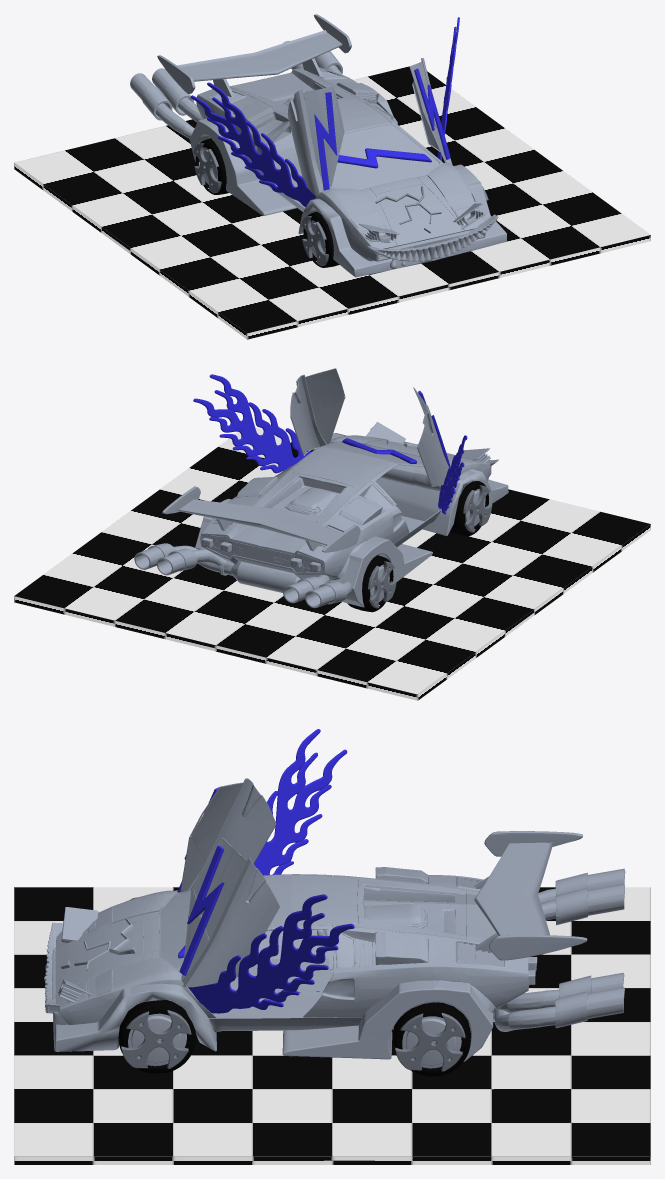
The model's file is car-lite.glb.
3 renders of one model, top to bottom at view 1: azimuth 30°, elevation 25°; view 2: azimuth 150°, elevation 25°; view 3: azimuth 270°, elevation 25°, orthographic. The views are drawn at different scales.
Parts seen in each view (by area): view 1: Cubo.1-CHECKER_1, CARROCERIA, Lamborghini_Countach_5000_QV_1985.obj.1.1, llamas, Cubo.1-CHECKER, rayo, sonrisa_remesh, Polygon (×2), Polygon_remesh (×2), rayos, OJOS_remesh; view 2: Cubo.1-CHECKER_1, CARROCERIA, llamas, Lamborghini_Countach_5000_QV_1985.obj.1.1, Cubo.1-CHECKER, Polygon (×2), Polygon_remesh (×2), OJOS_remesh; view 3: Cubo.1-CHECKER_1, CARROCERIA, Lamborghini_Countach_5000_QV_1985.obj.1.1, llamas, Polygon (×4), Cubo.1-CHECKER, Polygon_remesh (×2), rayo, OJOS_remesh, DETALLES, sonrisa_remesh.
Boxes of the visible parts, <box> form: Cubo.1-CHECKER_1: <box>14,66,650,333</box>; CARROCERIA: <box>130,14,507,277</box>; Lamborghini_Countach_5000_QV_1985.obj.1.1: <box>288,58,452,196</box>; llamas: <box>190,17,459,206</box>; Cubo.1-CHECKER: <box>14,163,650,339</box>; rayo: <box>314,68,450,190</box>; sonrisa_remesh: <box>367,214,498,261</box>; Polygon (×2): <box>193,143,328,266</box>; Polygon_remesh (×2): <box>195,138,339,267</box>; rayos: <box>337,148,431,168</box>; OJOS_remesh: <box>359,203,485,242</box>; Cubo.1-CHECKER_1: <box>14,427,650,694</box>; CARROCERIA: <box>134,433,508,608</box>; llamas: <box>193,374,467,514</box>; Lamborghini_Countach_5000_QV_1985.obj.1.1: <box>290,368,448,486</box>; Cubo.1-CHECKER: <box>14,524,650,700</box>; Polygon (×2): <box>368,485,492,608</box>; Polygon_remesh (×2): <box>347,481,488,612</box>; OJOS_remesh: <box>366,422,490,462</box>; Cubo.1-CHECKER_1: <box>14,887,650,1156</box>; CARROCERIA: <box>52,831,625,1061</box>; Lamborghini_Countach_5000_QV_1985.obj.1.1: <box>180,778,279,987</box>; llamas: <box>188,729,354,1013</box>; Polygon (×4): <box>121,1010,465,1071</box>; Cubo.1-CHECKER: <box>14,1156,650,1164</box>; Polygon_remesh (×2): <box>118,1000,470,1076</box>; rayo: <box>177,787,224,975</box>; OJOS_remesh: <box>58,907,98,1002</box>; DETALLES: <box>411,877,504,966</box>; sonrisa_remesh: <box>44,922,62,1013</box>.
Bounding box in the file's own units: 533 × 201 × 533.
Materials: 6 (2 with a texture image).
